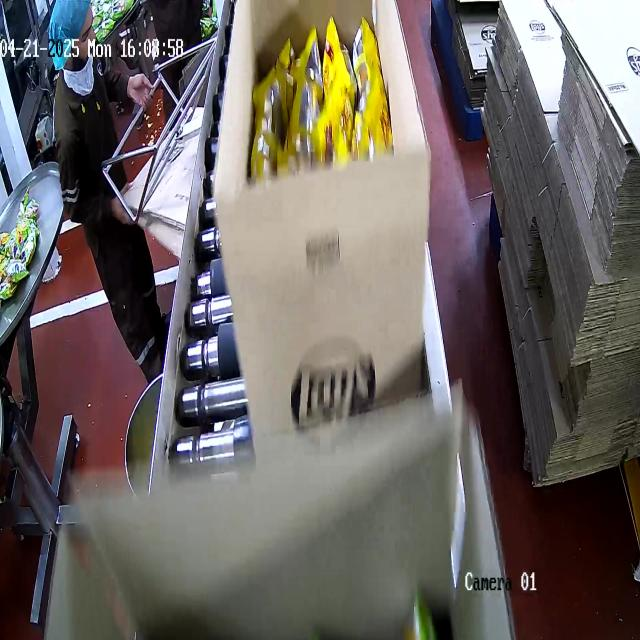SALTED: (249, 0, 386, 193)
